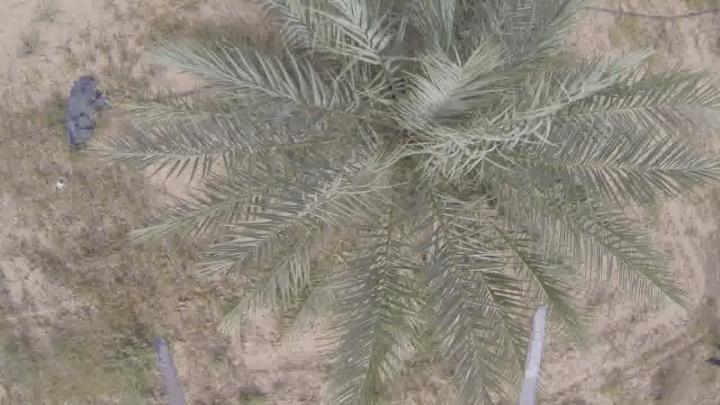Date-Palm-Crown: (268, 8, 560, 290)
